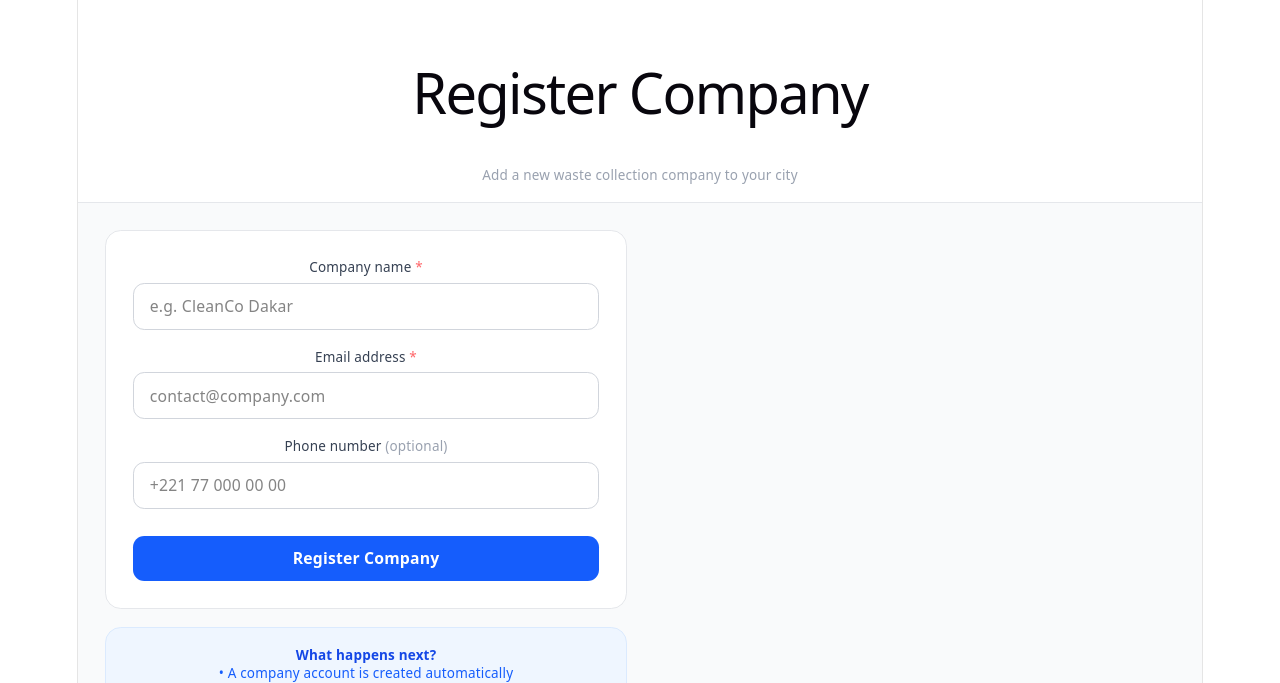
it: CompanyRegistrationPage — US-M08 company registration › shows validation errors on empty submit
The image size is (1280, 683).
Click the button with test id "btn-submit" at (366, 559), box [133,536,599,581]
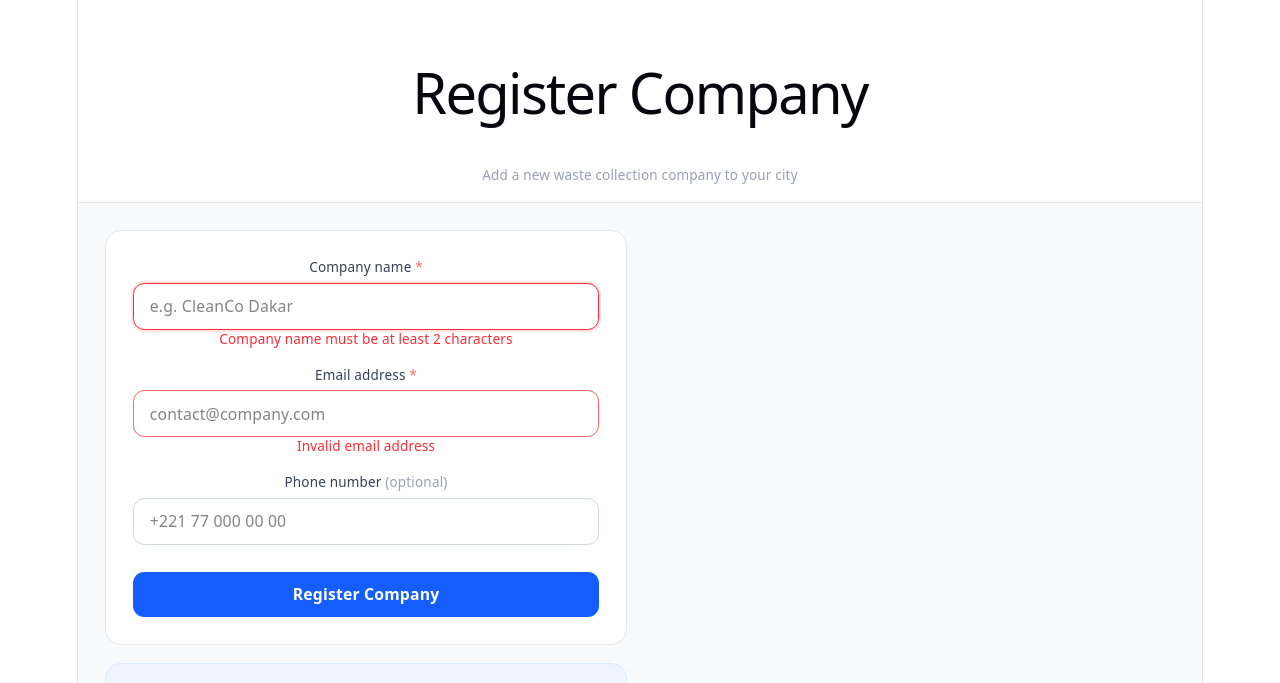
Result: the text "Company name must be at least 2 characters" is shown at [219,330,513,348]
Result: the text "Invalid email address" is shown at [297,437,435,455]
